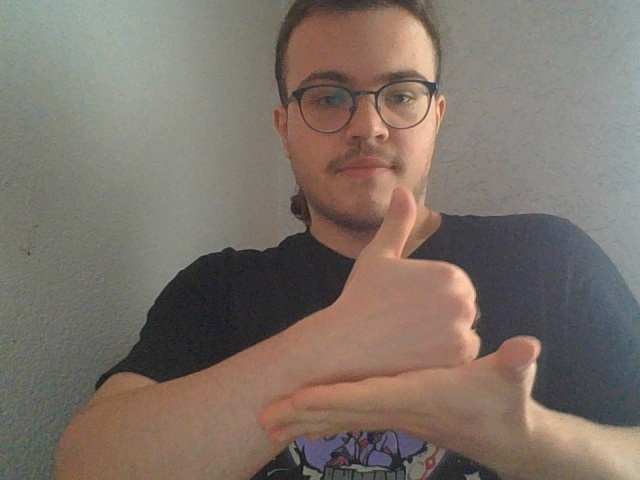Help: (256, 187, 543, 463)
